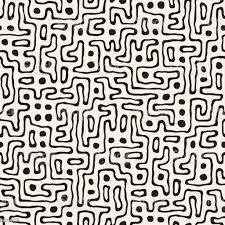maze: (1, 1, 224, 222)
